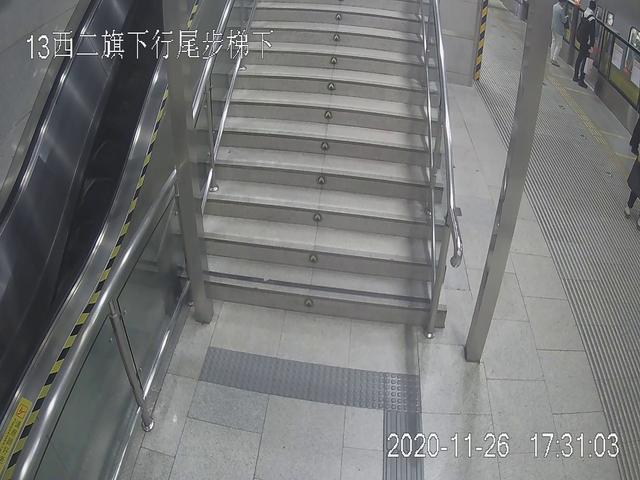person: (572, 1, 597, 91), (550, 1, 572, 70)
